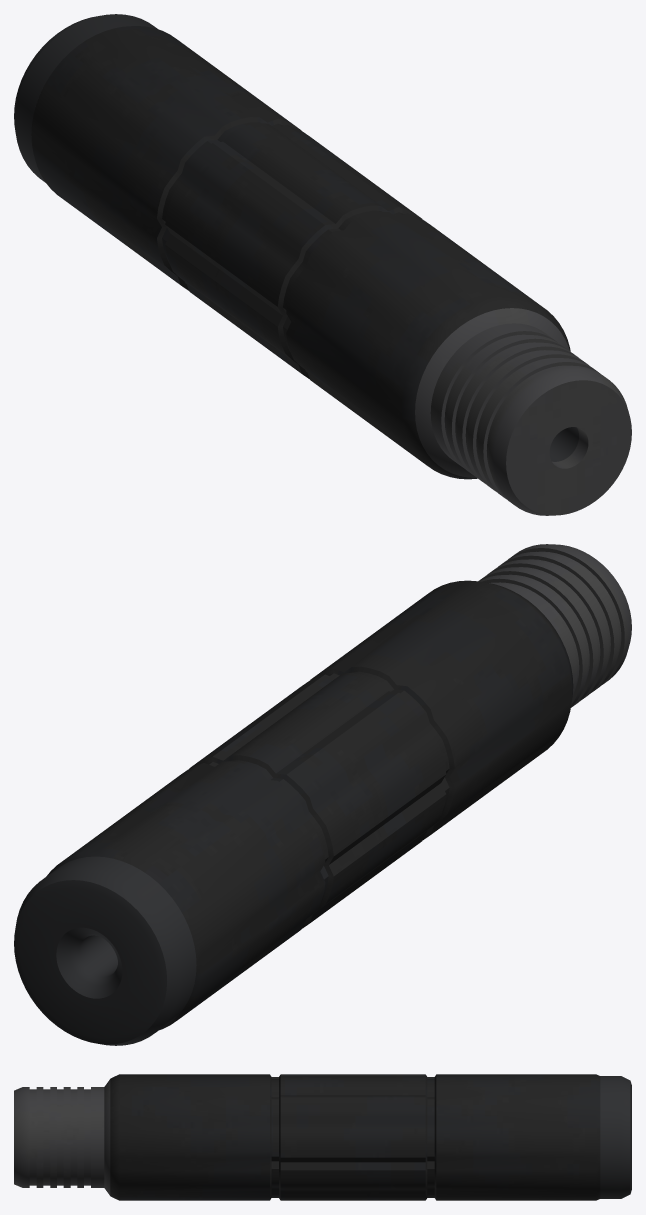
File: SuppSniper.glb
The picture shows the model from 3 angles, top to bottom: view 1: azimuth 30°, elevation 25°; view 2: azimuth 150°, elevation 25°; view 3: azimuth 270°, elevation 25°; orthographic projection. The views are drawn at different scales.
Parts seen in each view (by area): view 1: SuppSniper_Body; view 2: SuppSniper_Body; view 3: SuppSniper_Body.
Boxes of the visible parts, bbox=[...] form: SuppSniper_Body: bbox=[14, 14, 631, 515]; SuppSniper_Body: bbox=[14, 544, 631, 1045]; SuppSniper_Body: bbox=[14, 1074, 631, 1200].
Bounding box in the file's own units: 0.042 × 0.042 × 0.205.
3 materials, 3 textured.
